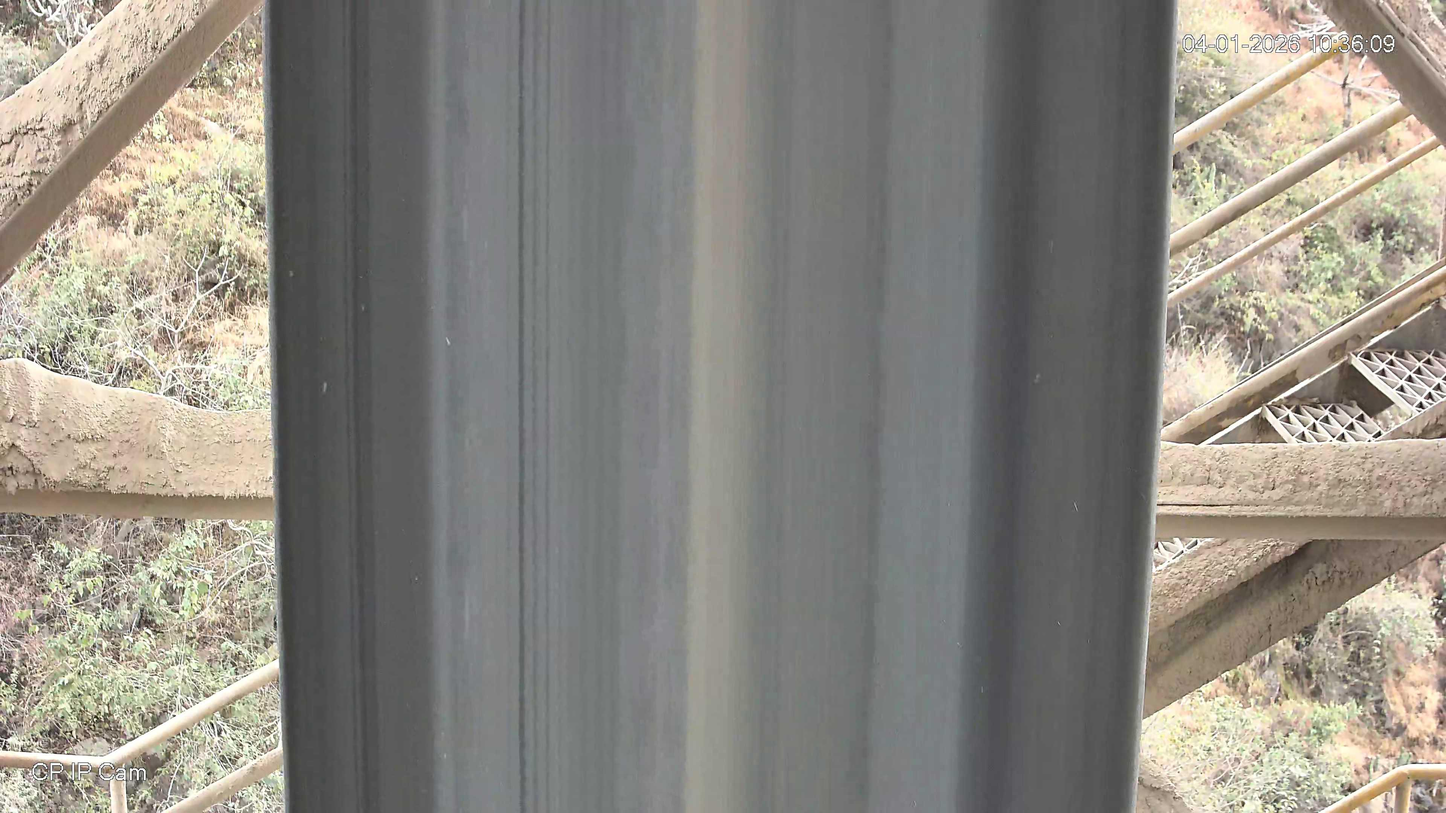belt_roi: (265, 0, 1177, 813)
